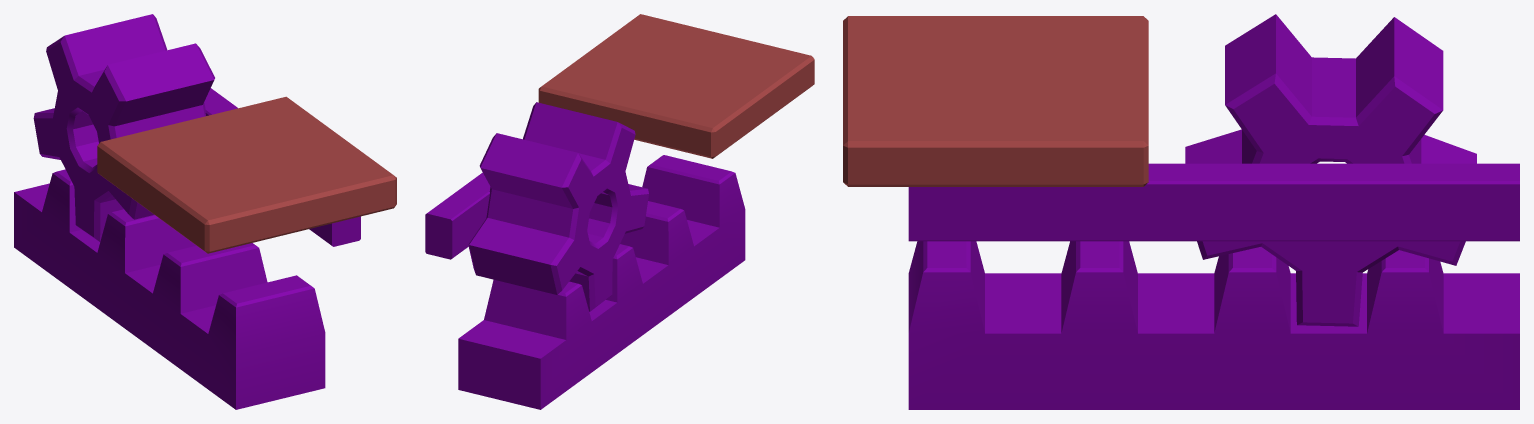
Rendered from geo_Plateforme_Mobile.fbx.
3 views of the same model, side by side, from view 1: azimuth 30°, elevation 25°; view 2: azimuth 150°, elevation 25°; view 3: azimuth 270°, elevation 25° (orthographic). The views are drawn at different scales.
Parts seen in each view (by area): view 1: geo_barreCrante, geo_plateforme, geo_engrenage, geo_barre; view 2: geo_barreCrante, geo_engrenage, geo_plateforme, geo_barre; view 3: geo_barreCrante, geo_plateforme, geo_barre, geo_engrenage.
Boxes of the visible parts, box(x1,y1,x2,y2) form: geo_barreCrante: box(14, 169, 325, 409); geo_plateforme: box(97, 96, 396, 253); geo_engrenage: box(33, 14, 214, 241); geo_barre: box(204, 88, 360, 246); geo_barreCrante: box(458, 155, 745, 409); geo_engrenage: box(468, 102, 648, 311); geo_plateforme: box(538, 14, 814, 158); geo_barre: box(425, 172, 490, 259); geo_barreCrante: box(908, 241, 1519, 409); geo_plateforme: box(843, 16, 1148, 186); geo_barre: box(908, 163, 1519, 241); geo_engrenage: box(1185, 14, 1476, 326).
Size of the model in its own units: 1 by 1.22 by 2.21.
